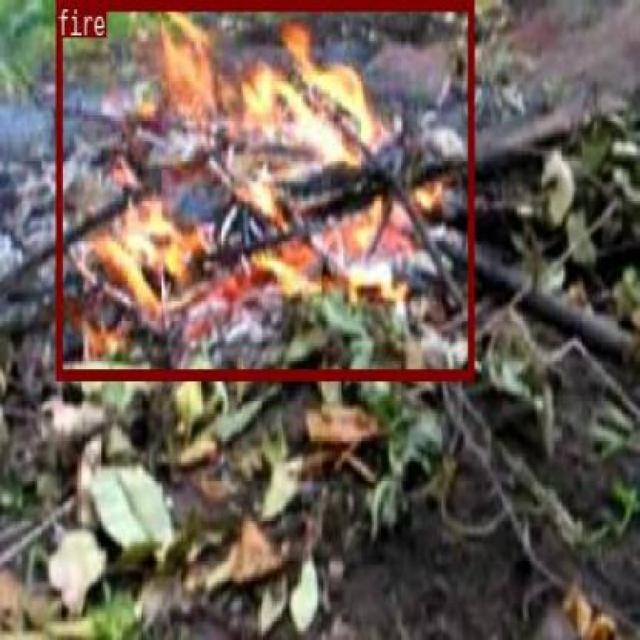fire: (54, 0, 473, 378)
